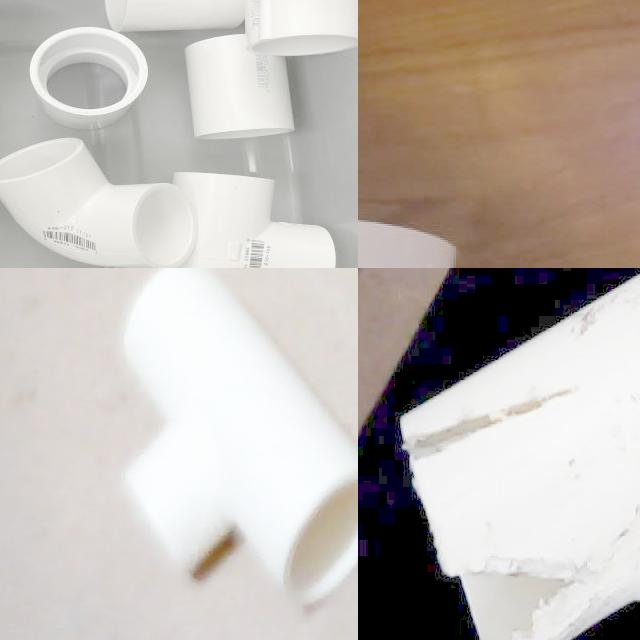Defective: (439, 516, 588, 640), (390, 389, 601, 463), (552, 268, 640, 319)
L Joint: (0, 138, 199, 268)
T Joint: (400, 275, 640, 640), (174, 173, 338, 268)
